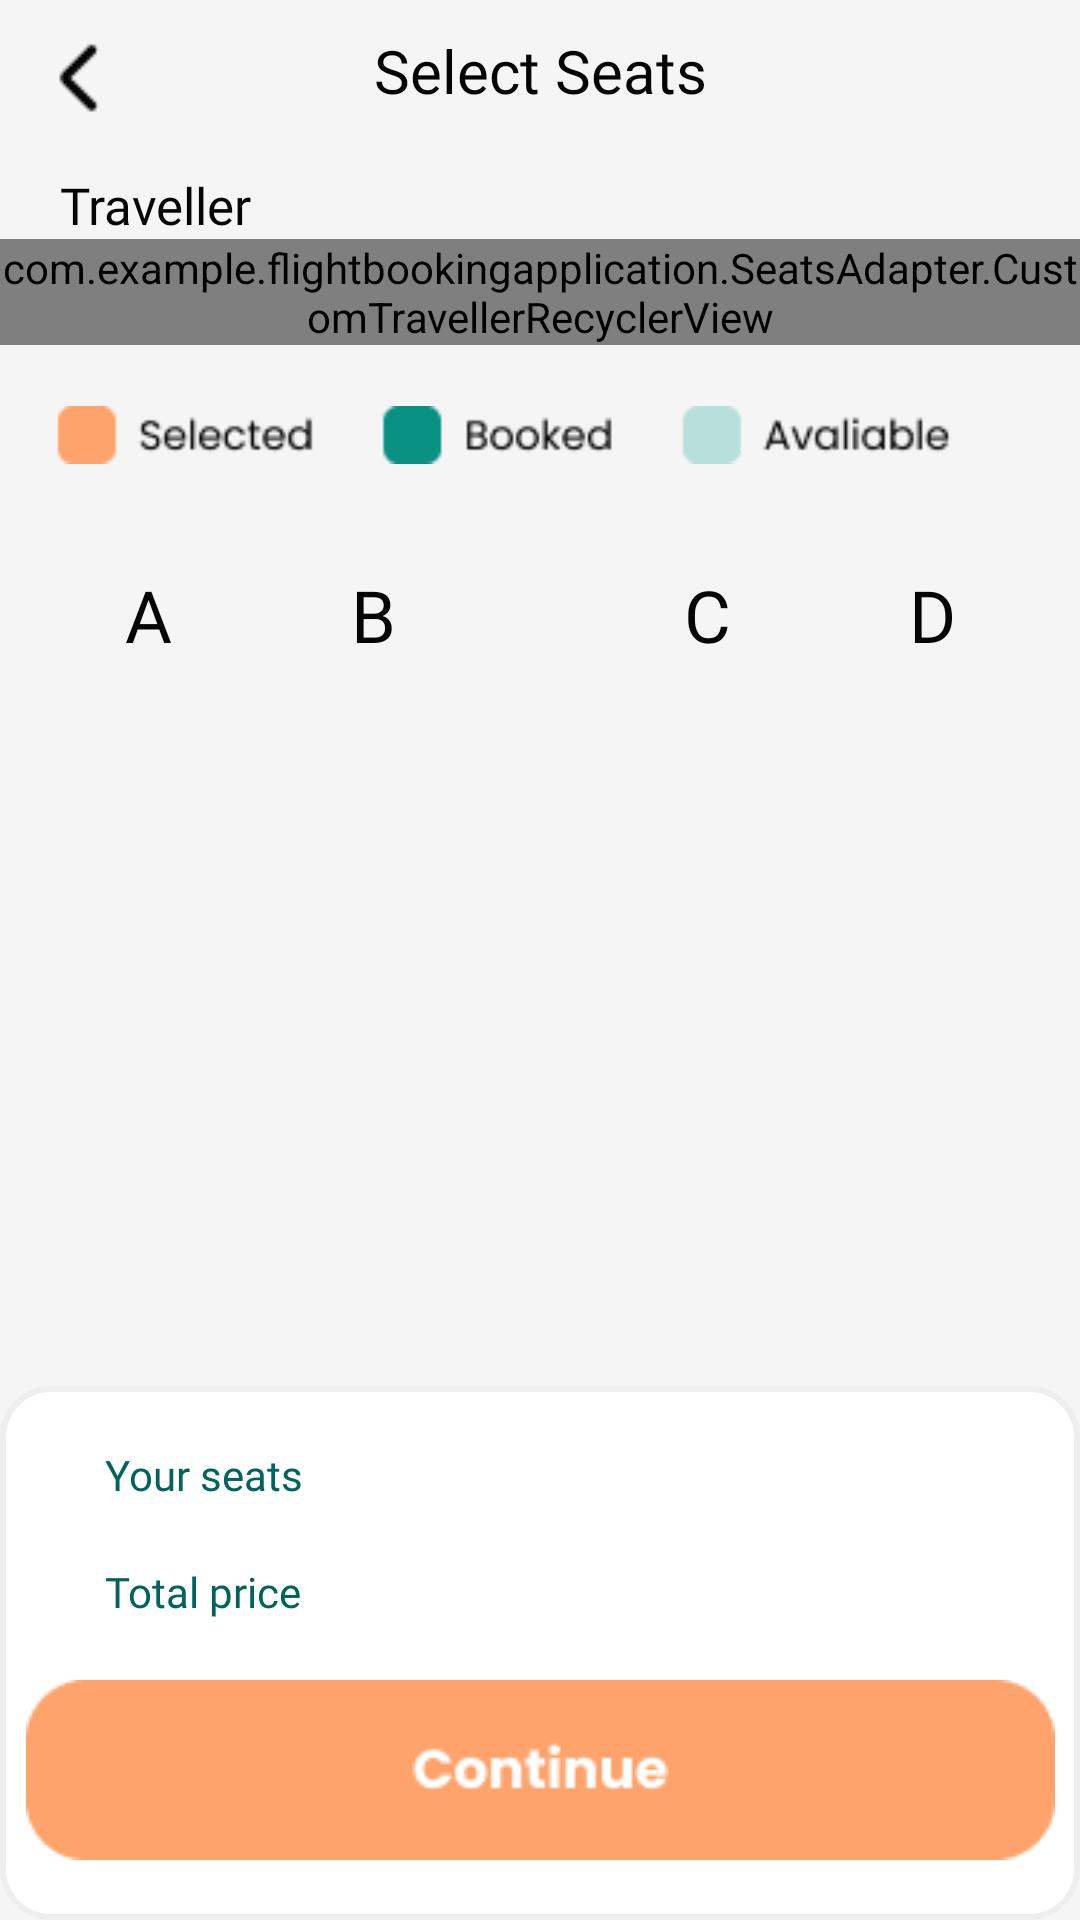

Where to tap for icons on this 1080x1920 app screen, as (x,y):
back: (78,78)
